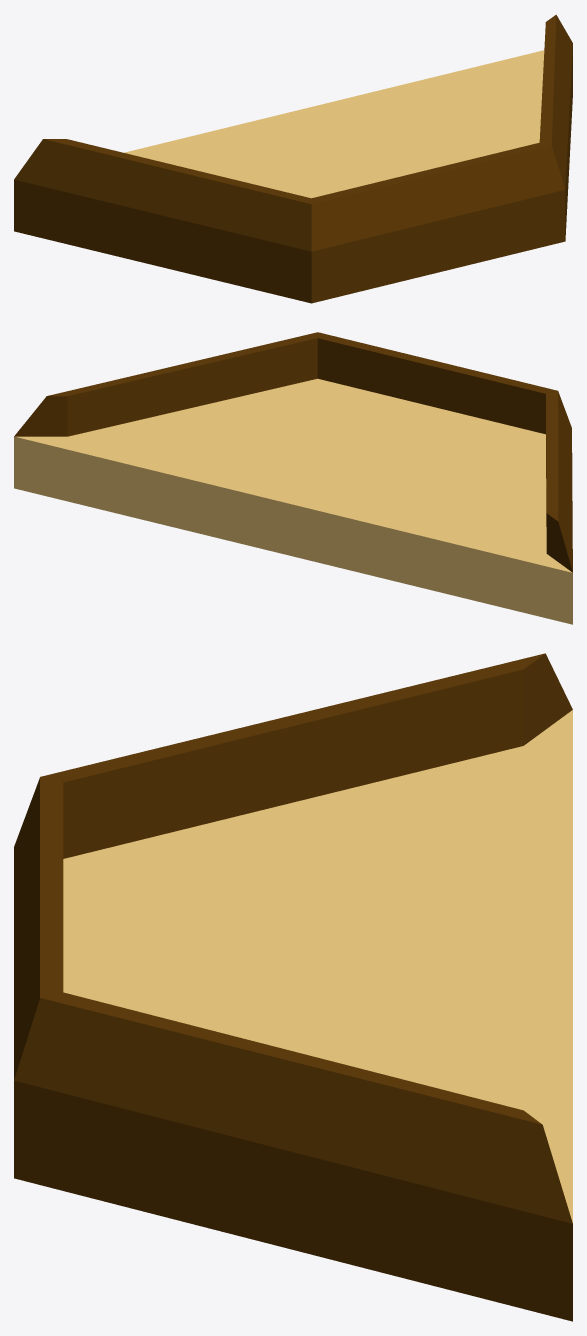
The model's file is Bowlingplatformexported.FBX.
3 renders of one model, top to bottom at view 1: azimuth 30°, elevation 25°; view 2: azimuth 150°, elevation 25°; view 3: azimuth 270°, elevation 25°, orthographic. The views are drawn at different scales.
Visible parts, largest first — view 1: Box001; view 2: Box001; view 3: Box001.
Boxes of the visible parts, x1,y1,x2,y2 form: Box001: [14, 14, 572, 303]; Box001: [14, 332, 572, 624]; Box001: [14, 653, 572, 1321].
Bounding box in the file's own units: 112 × 17.72 × 51.51.
